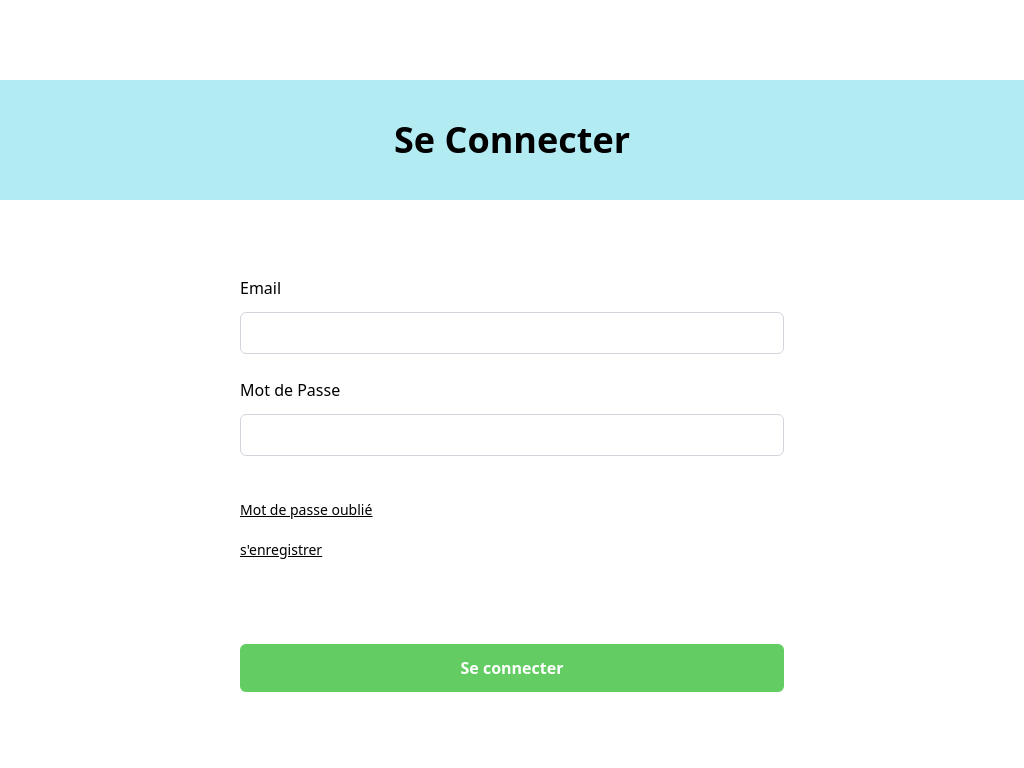
Test: should redirect to home › should show email required
In the password field named "password": (512, 435) [240, 414, 784, 456], type "pass"
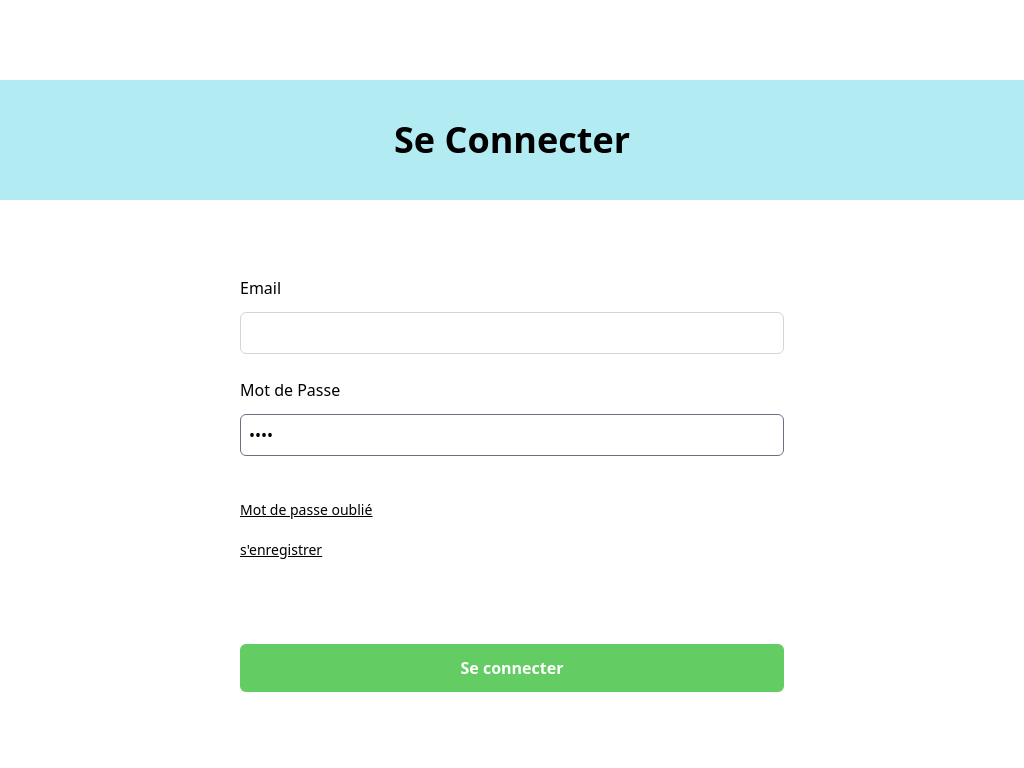
Click the submit button: (512, 668) [240, 644, 784, 692]
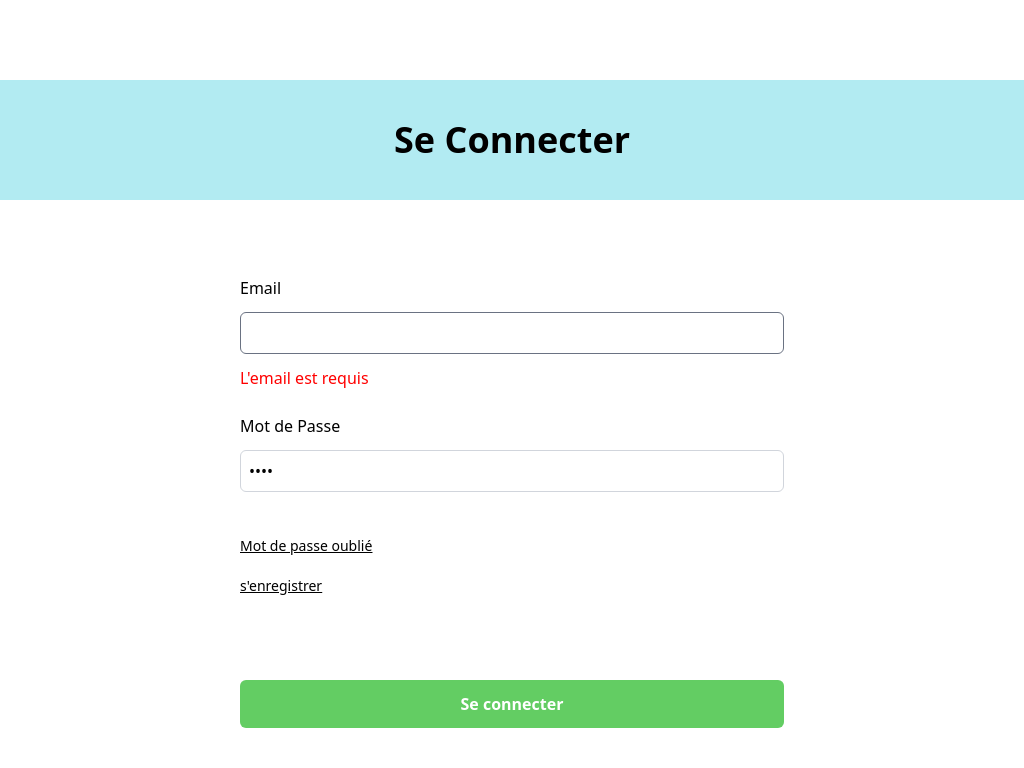
Result: the number of elements with test id "log" is 1 at [240, 367, 369, 389]
